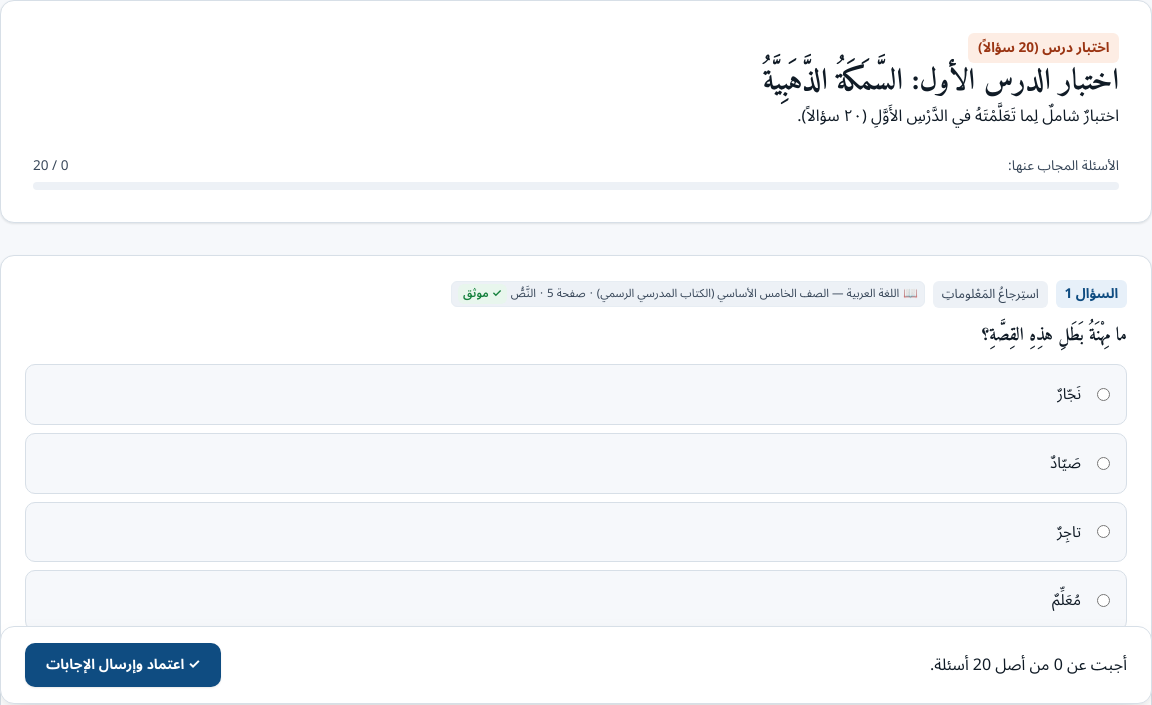
Scenario: PR1 — assessment draft save failure › keeps the warning until a write actually succeeds, then persists the draft
Click the radio button labelled "نَجّارٌ" at {"x": 1104, "y": 395}, box [1097,388,1110,401]
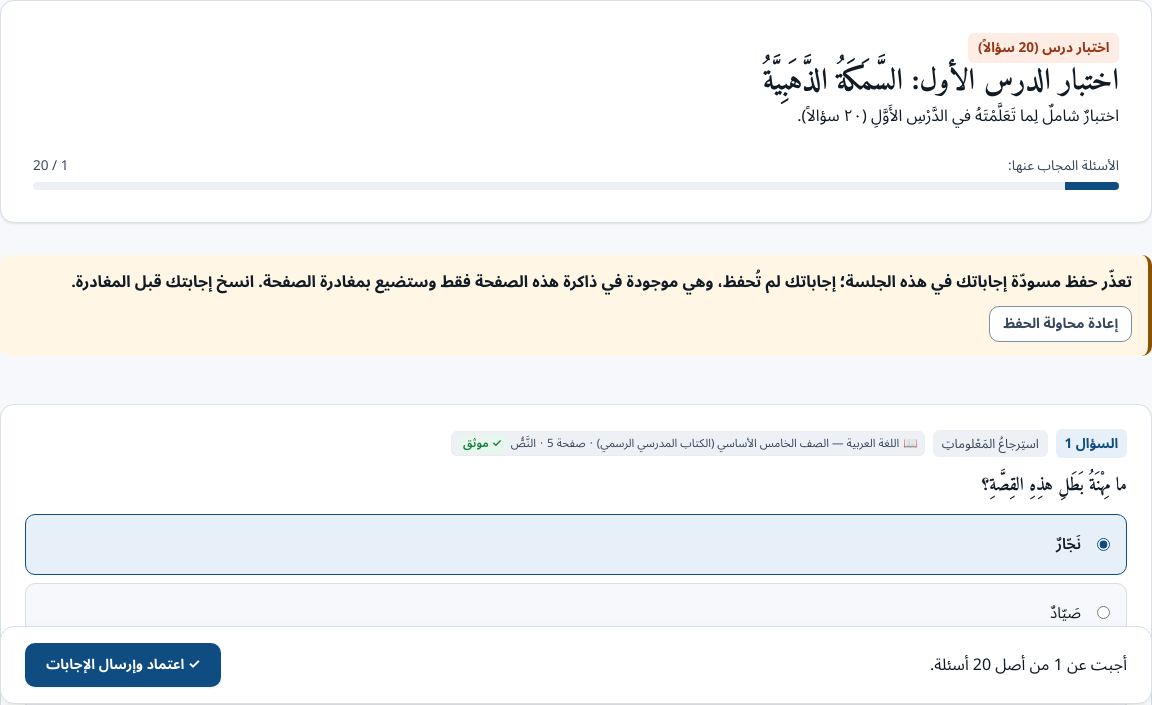
Now the message is shown, box [0,255,1151,356]
# Retry while storage still fails: the warning stays, the retry is reported as failed.
Click the button "إعادة محاولة الحفظ" at {"x": 1061, "y": 324}, box [989,306,1132,342]
(page scrolled)
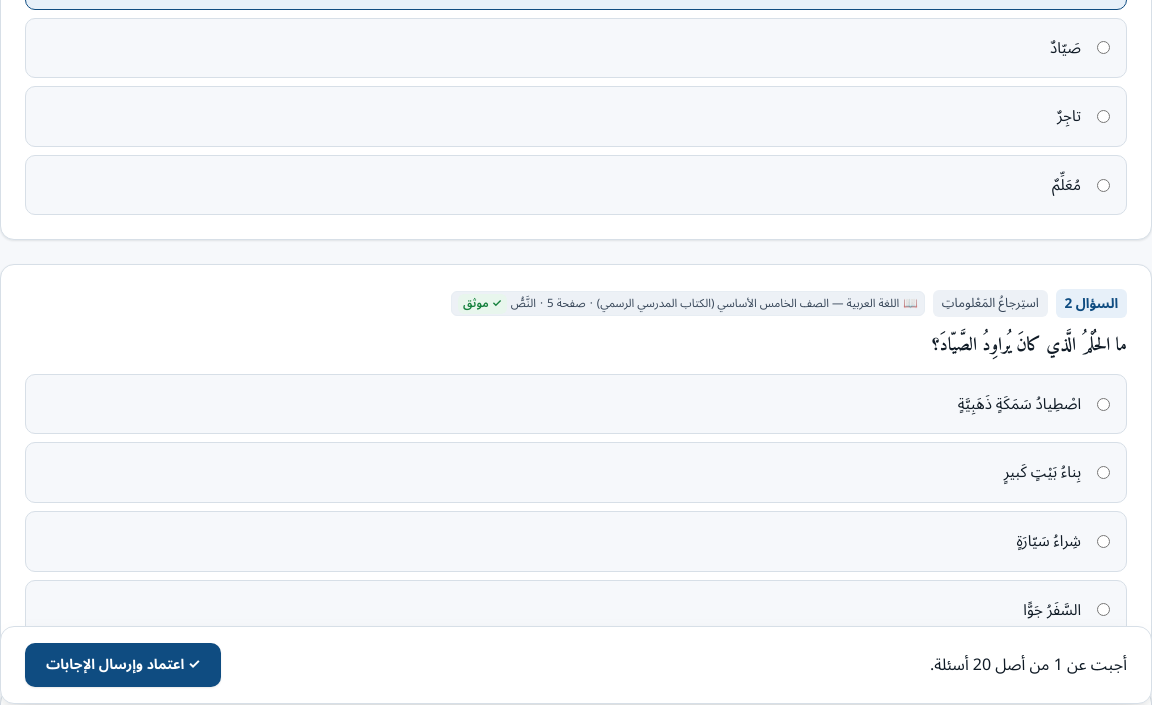
Click the radio button labelled "اصْطِيادُ سَمَكَةٍ ذَهَبِيَّةٍ" at {"x": 1104, "y": 404}, box [1097,398,1110,411]
(page scrolled)
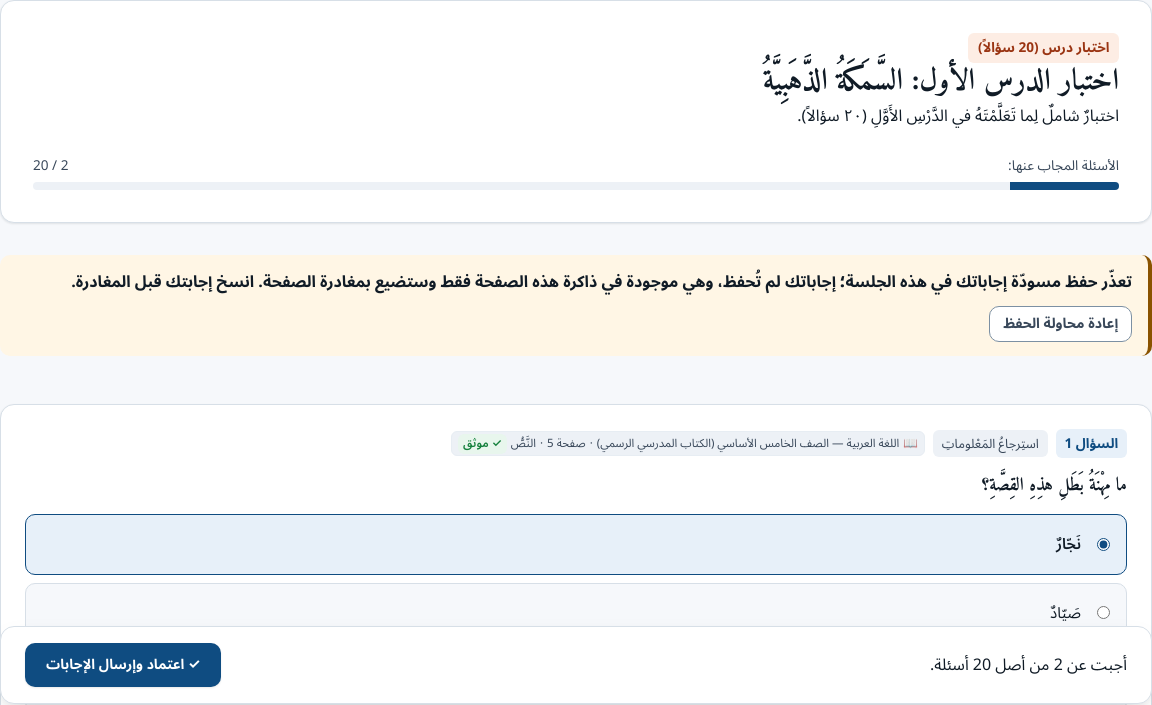
Now the message is shown, box [0,255,1151,356]
Click the button "إعادة محاولة الحفظ" at {"x": 1061, "y": 324}, box [989,306,1132,342]
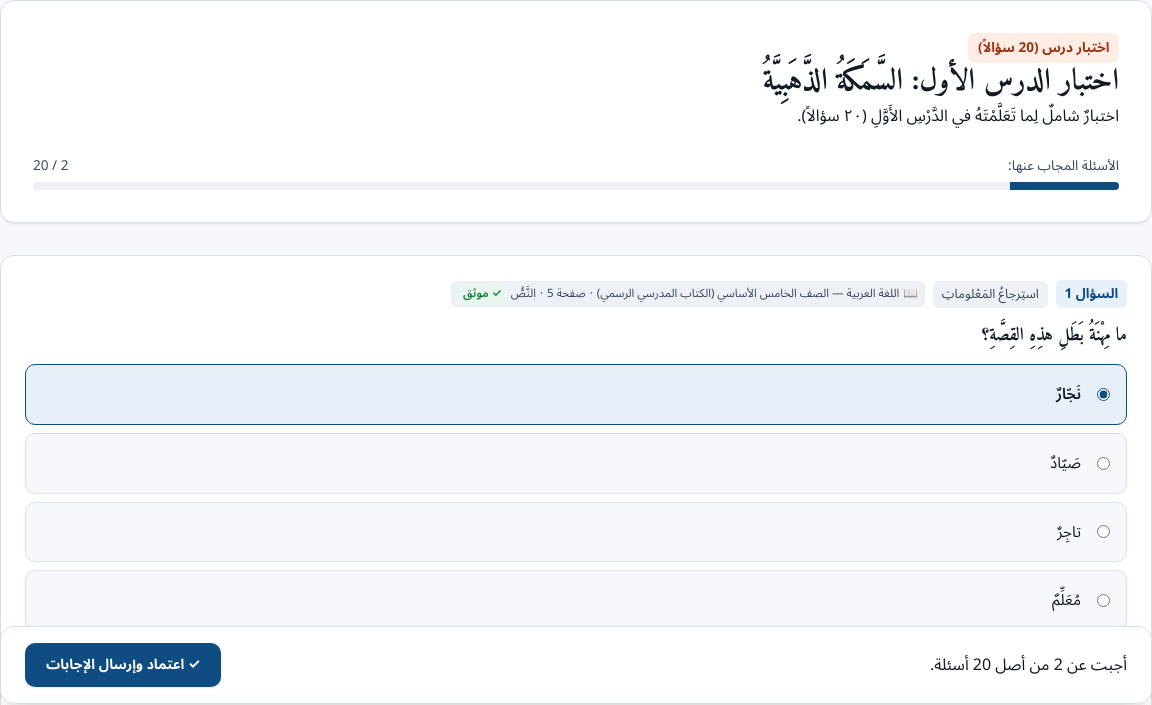
Now the message is gone
Now the button "إعادة محاولة الحفظ" is gone
